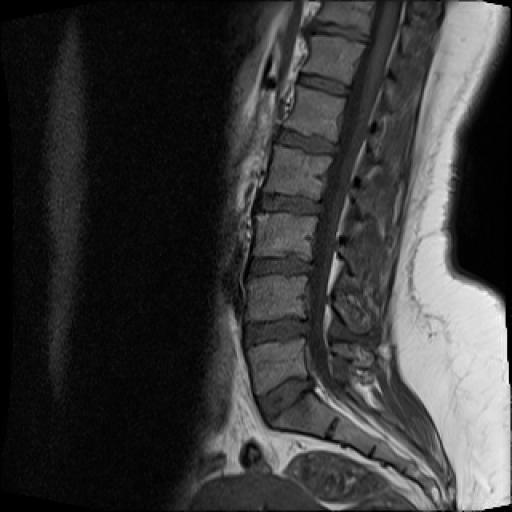L1: (284, 84, 345, 140)
L2: (263, 145, 332, 200)
L3: (254, 216, 316, 260)
L4: (247, 275, 306, 320)
L5: (249, 339, 307, 394)
S1: (274, 392, 336, 436)
